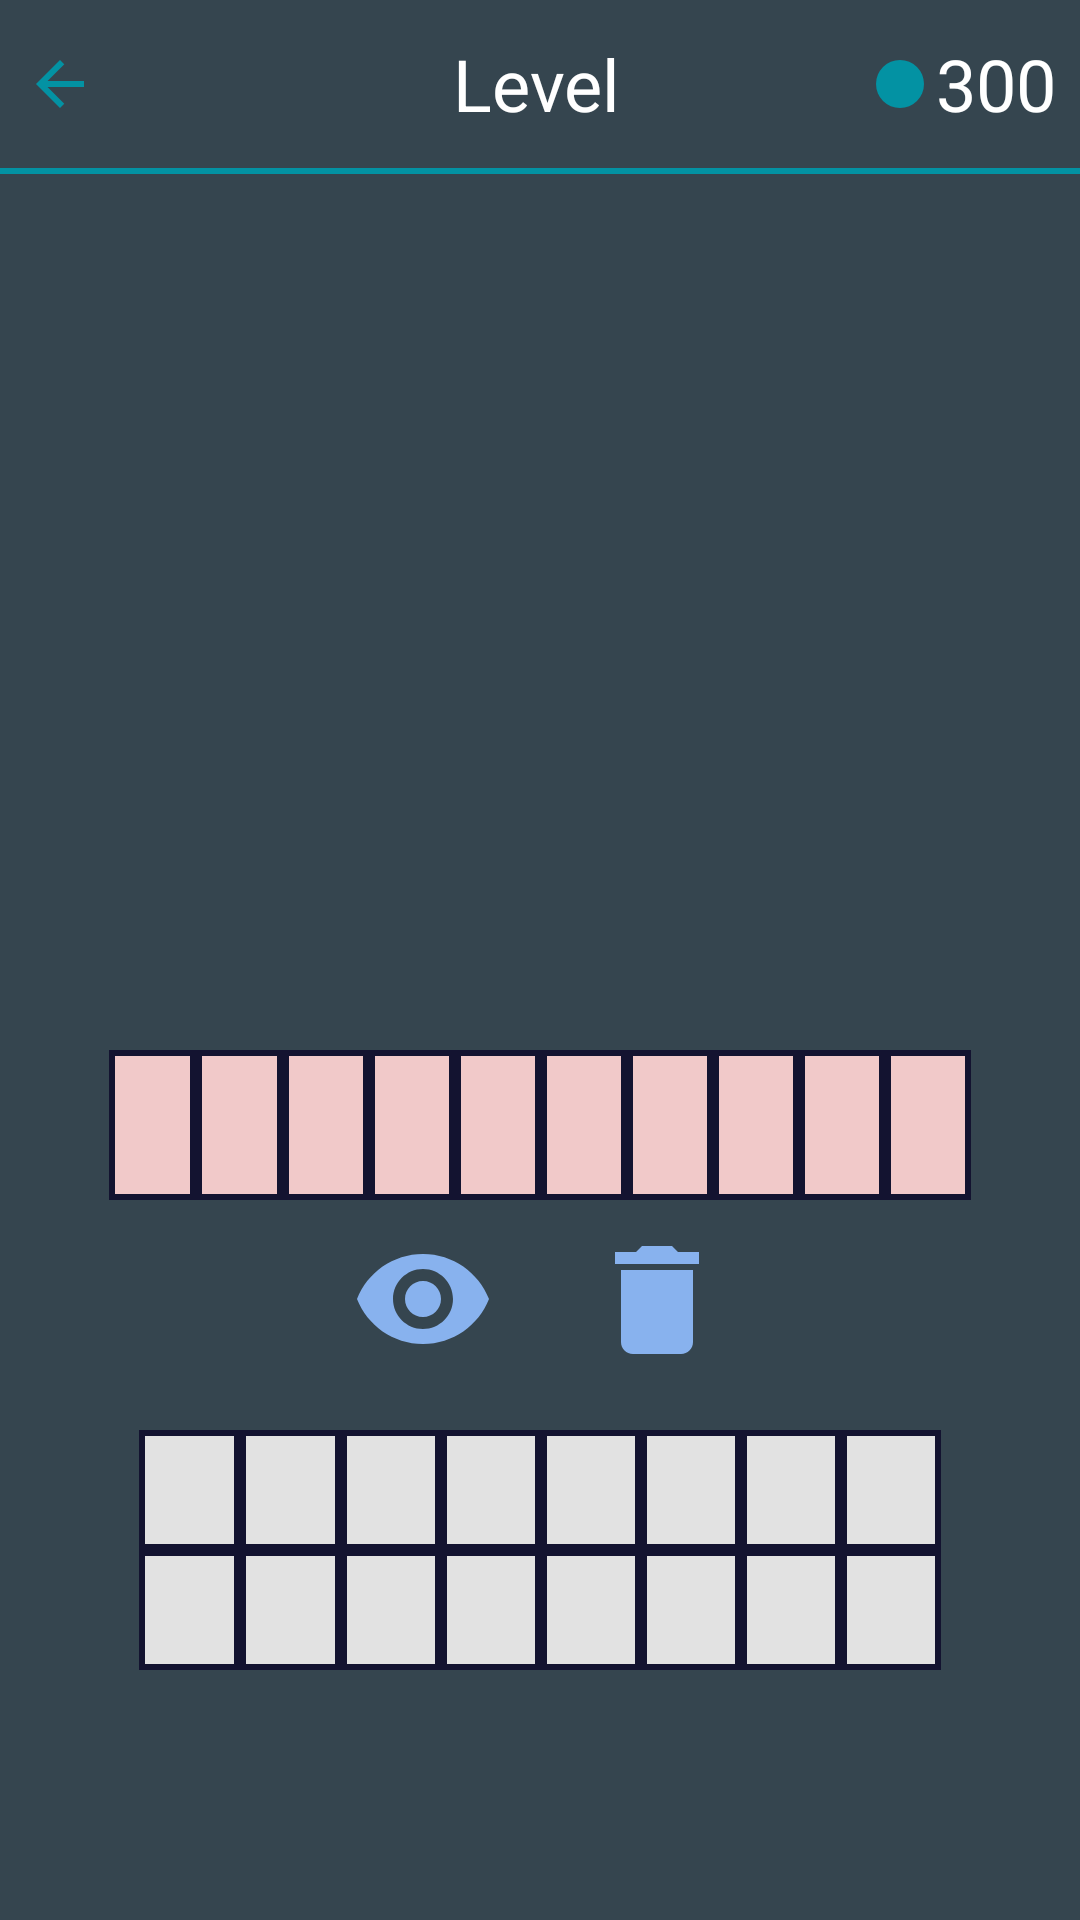

Named icons in this screenshot (1080px x 1920px) and their centers, point (x, y):
arrow back: point (60, 84)
visibility: point (423, 1299)
